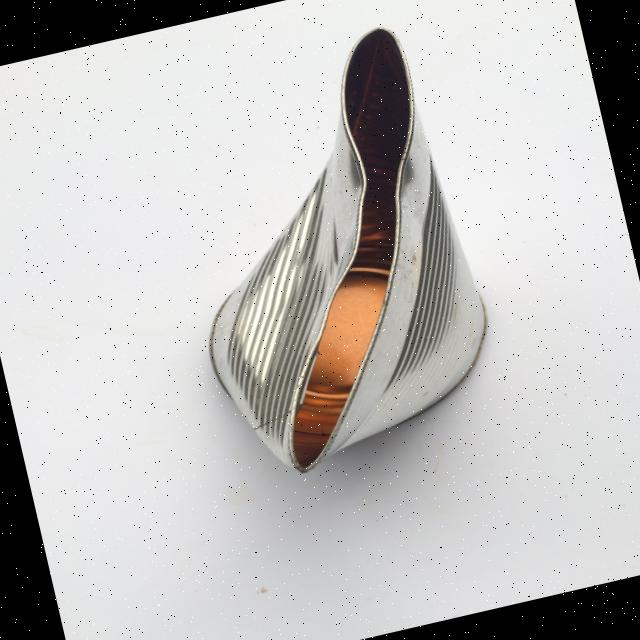metal: (145, 16, 512, 488)
